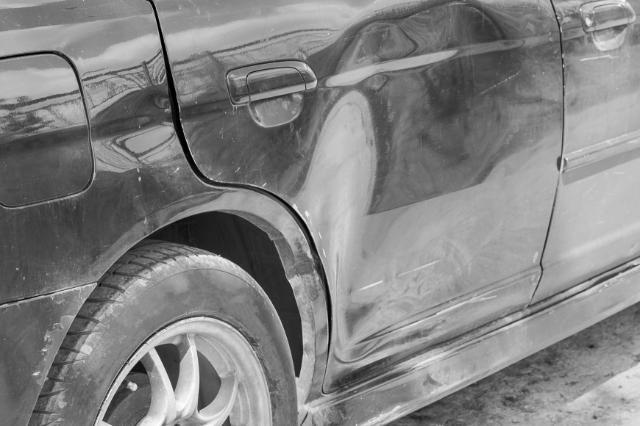Door: (219, 0, 640, 352)
Fender: (4, 33, 220, 222)
